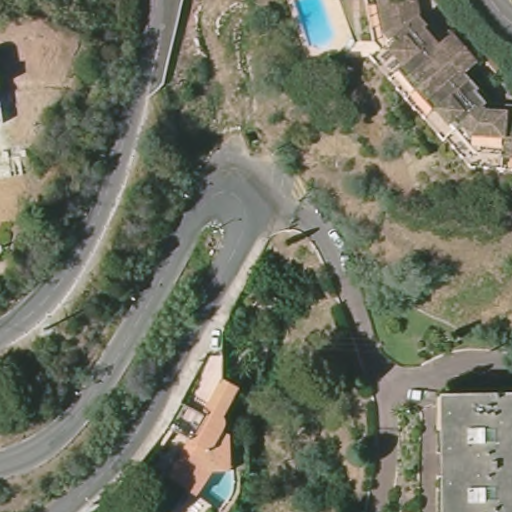pool: (289, 1, 337, 51), (195, 466, 235, 509)
